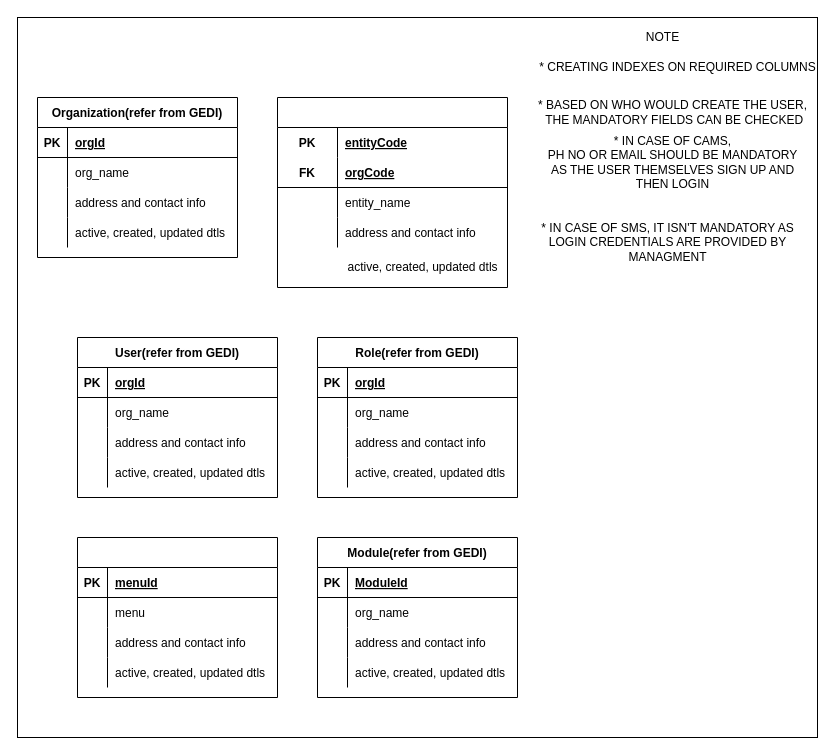
The diagram is 840 pixels wide and 755 high, and some of its shapes have lost their labels. The shapes that lost their labels are listed below. From the top down, each one's box as (x1, y1, x2, y2) in pixels, then its label:
(276, 96, 508, 288): Entity(refer from GEDI)
(76, 536, 278, 698): Menu(refer from GEDI)
